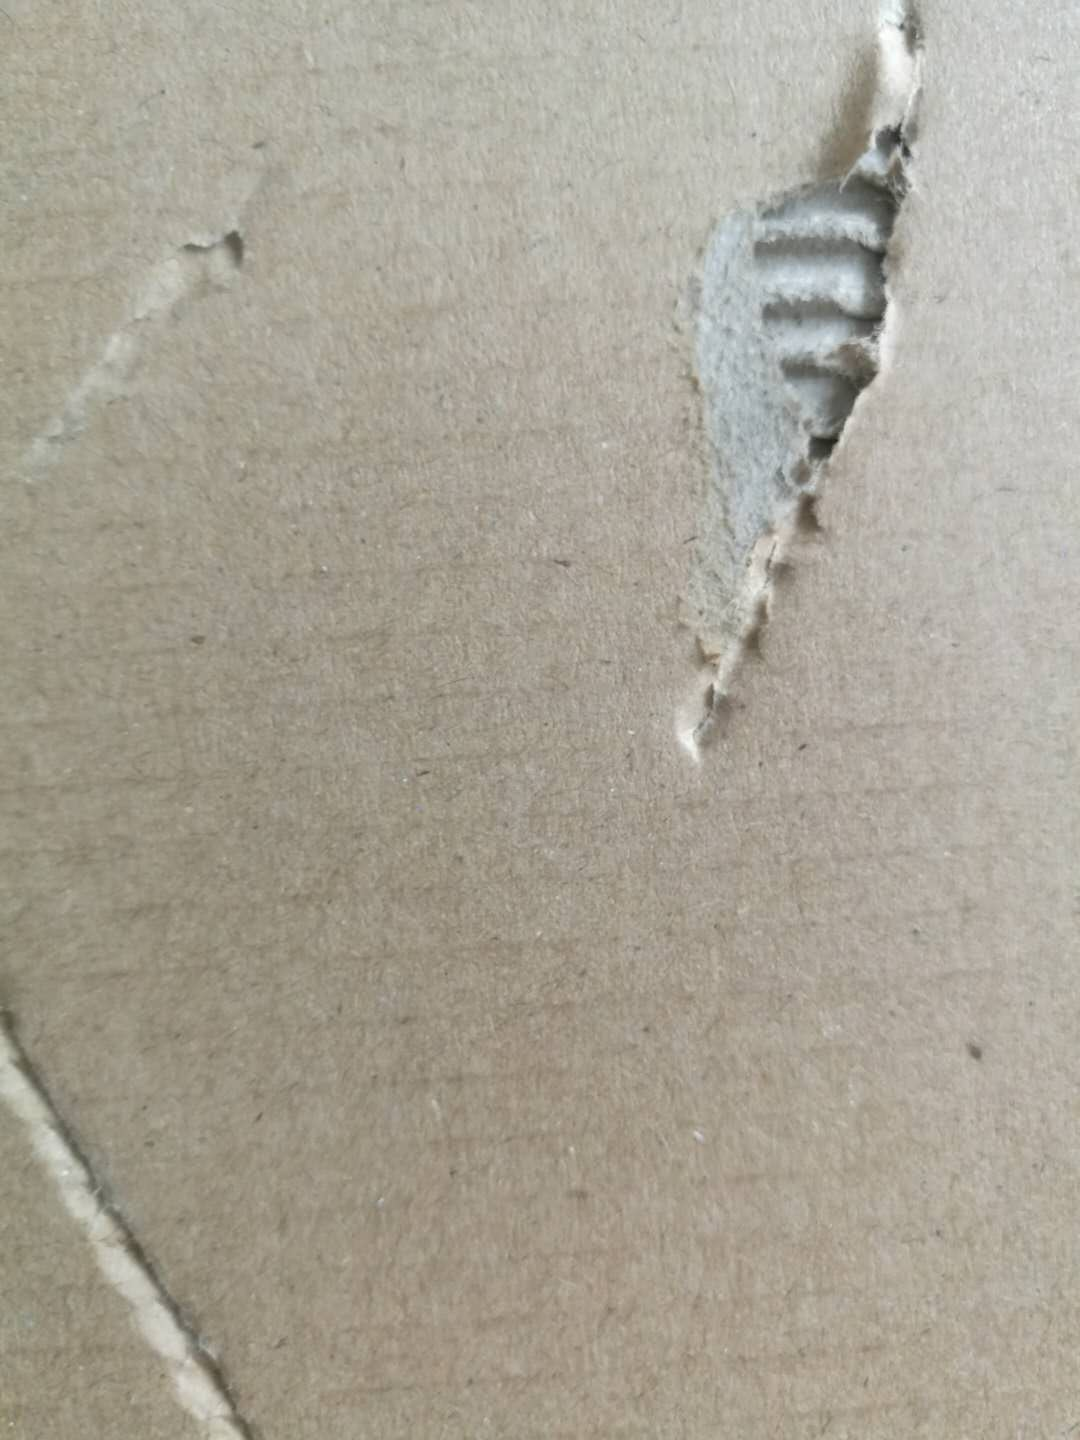defect: (634, 5, 959, 781), (3, 982, 305, 1439), (15, 142, 311, 476)
